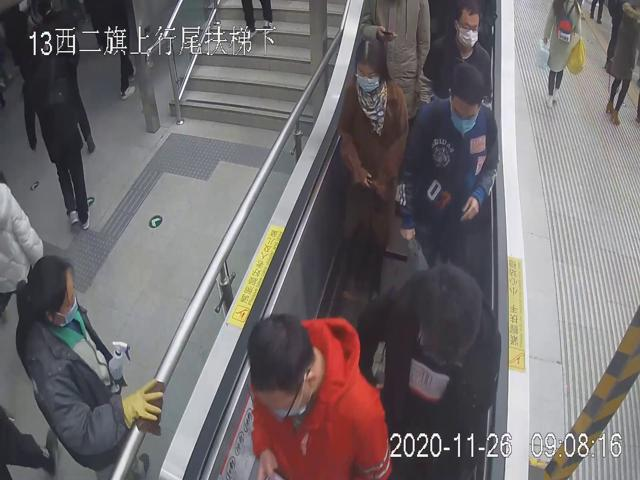person: (12, 255, 166, 468), (354, 260, 503, 480), (242, 313, 393, 480), (394, 60, 501, 270), (339, 31, 408, 271)
